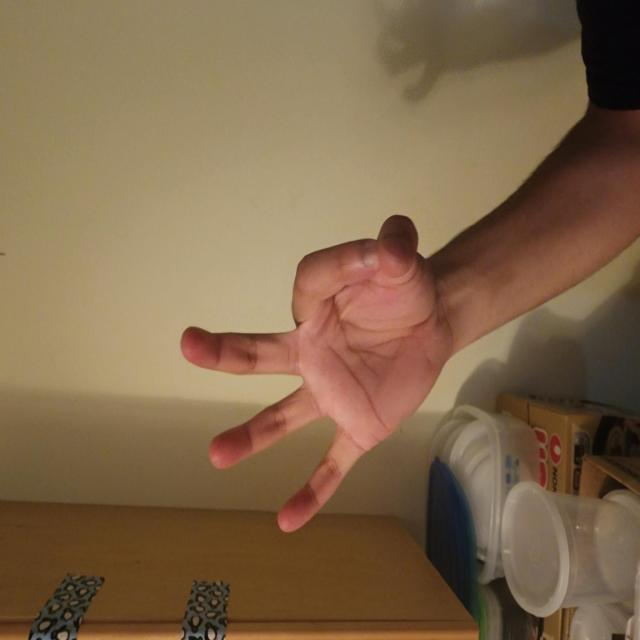F: (74, 239, 323, 596)
